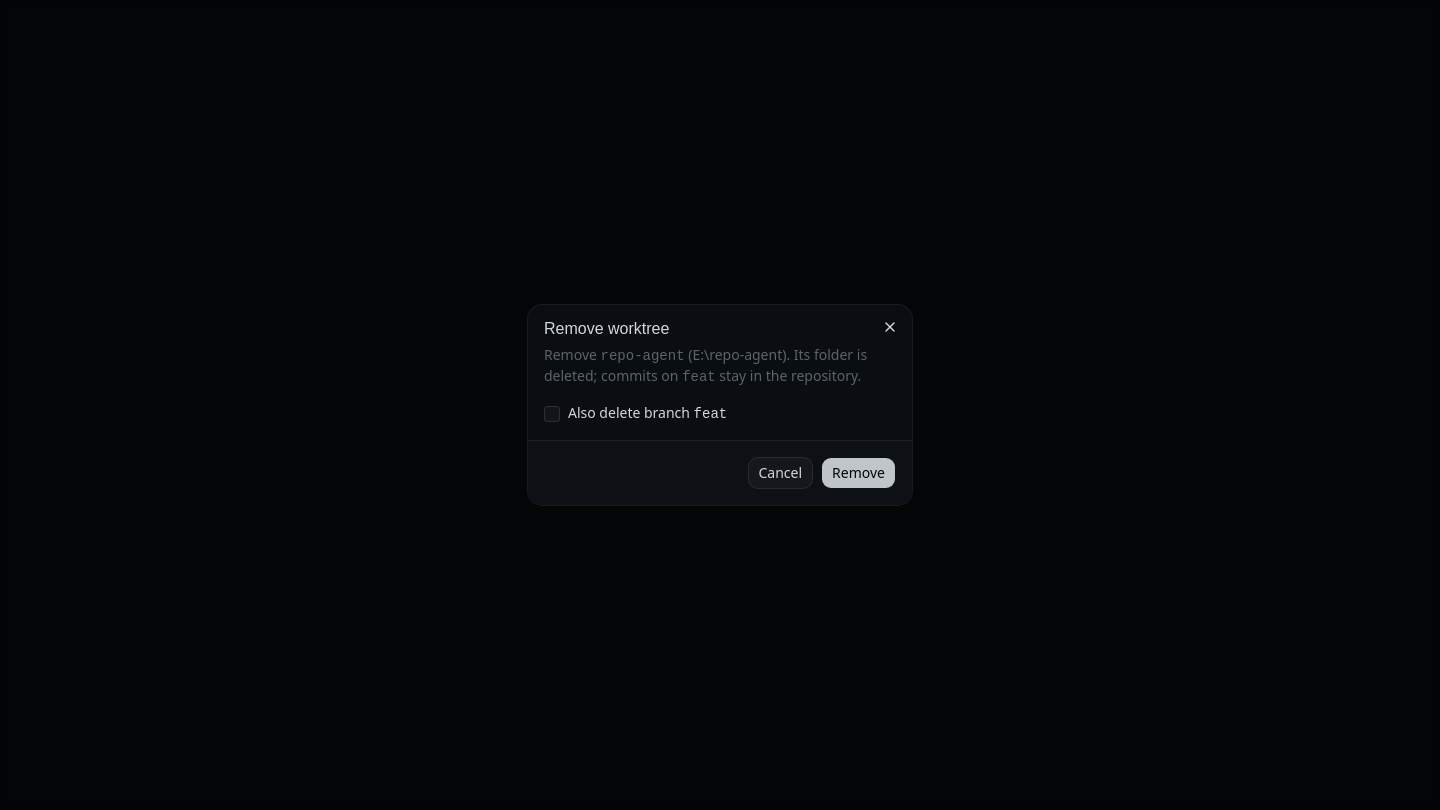
Test: RemoveWorktreeDialog › shows the backend error verbatim and keeps the dialog open
Click the button "Remove" at (859, 473), box [821,457,896,489]
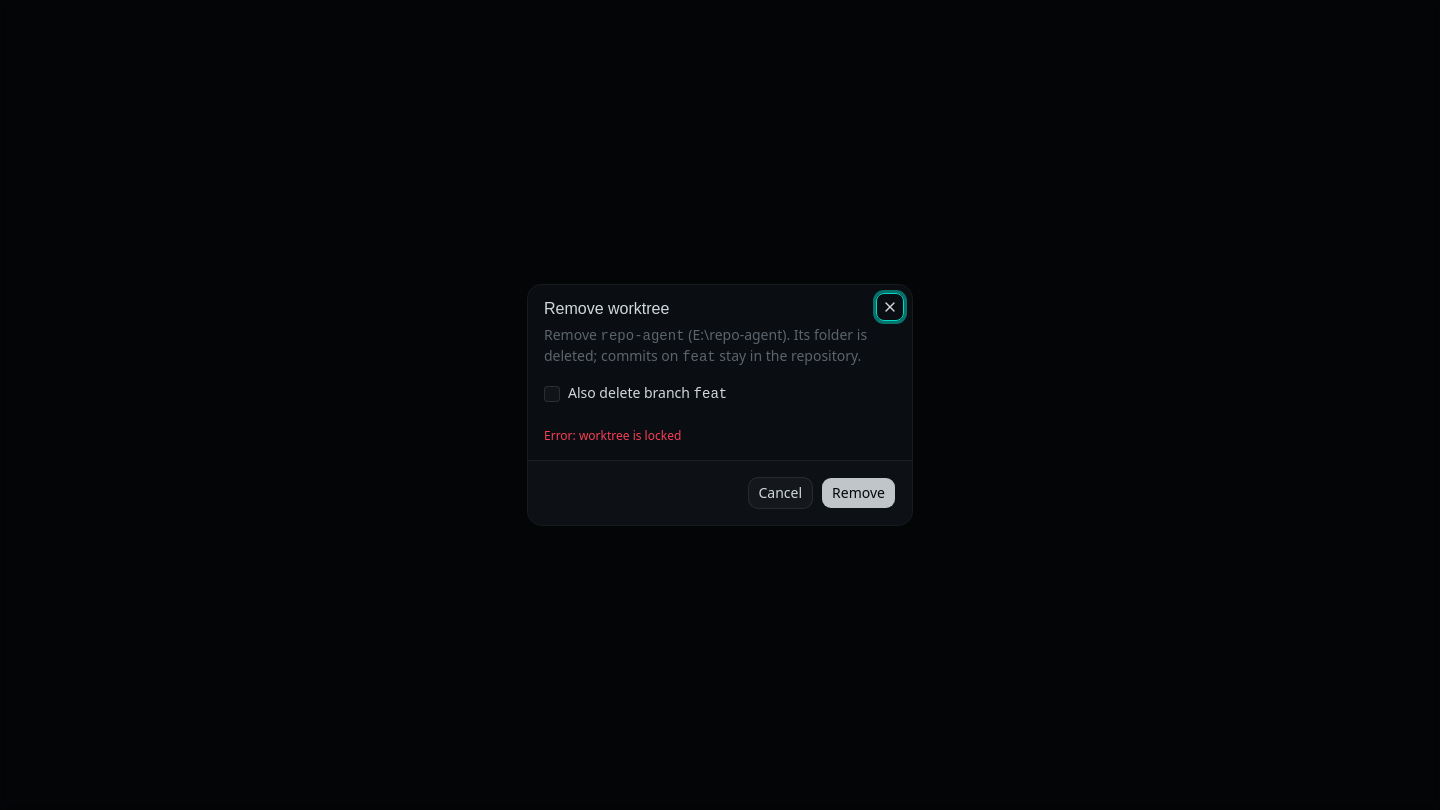
expect the text "Error: worktree is locked" is shown: met, box [544,427,681,444]
